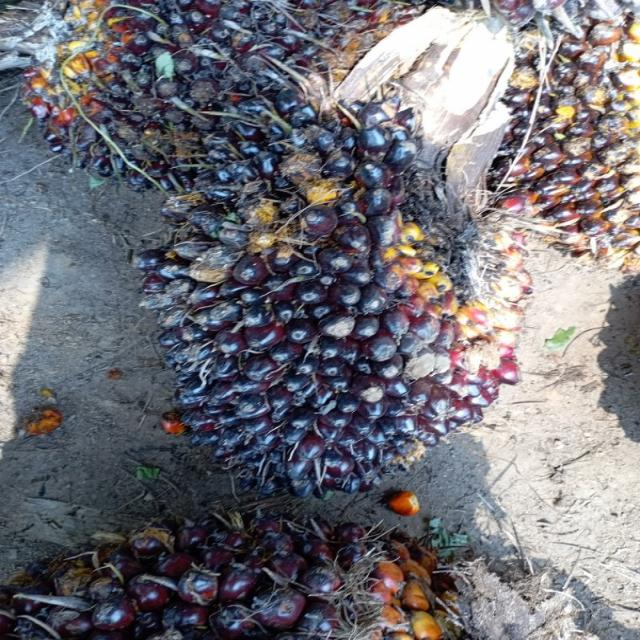fraksi 00: (150, 111, 498, 482)
